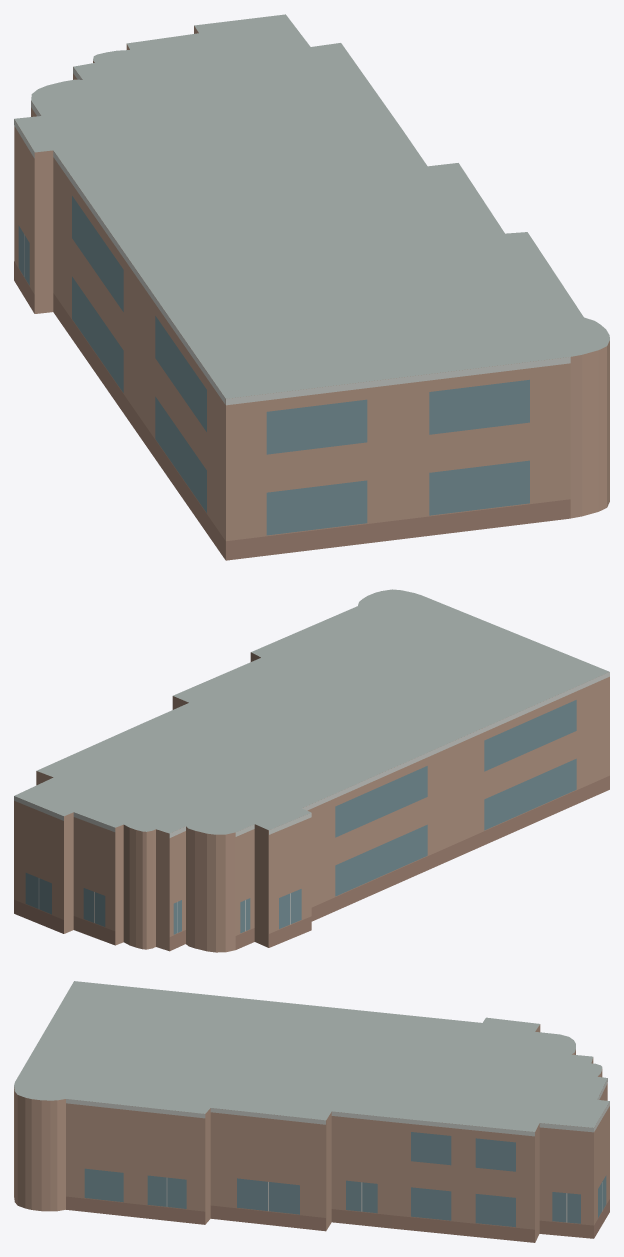
Rendered from survey-upis-32782992.glb.
3 views of the same model, one above another, from view 1: azimuth 30°, elevation 25°; view 2: azimuth 150°, elevation 25°; view 3: azimuth 270°, elevation 25° (orthographic). The views are drawn at different scales.
Parts seen in each view (by area): view 1: survey-upis-32782992.tmp; view 2: survey-upis-32782992.tmp; view 3: survey-upis-32782992.tmp.
Boxes of the visible parts, left/top/right/bottom form: survey-upis-32782992.tmp: left=14, top=14, right=609, bottom=560; survey-upis-32782992.tmp: left=14, top=589, right=609, bottom=952; survey-upis-32782992.tmp: left=14, top=981, right=609, bottom=1242.
Bounding box in the file's own units: 17.83 × 6.1 × 29.72.
